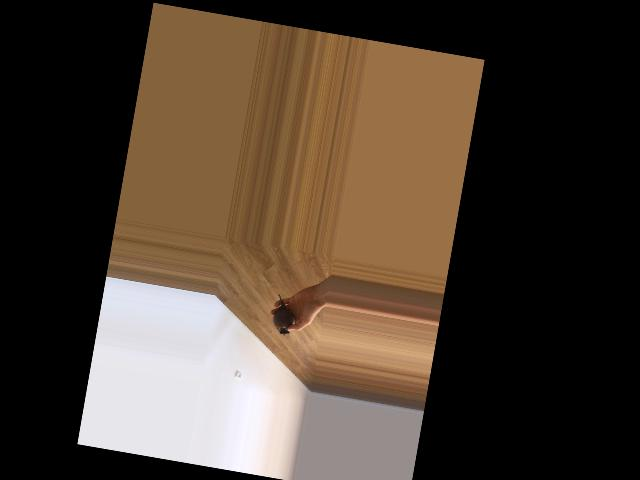beet: (269, 294, 298, 335)
